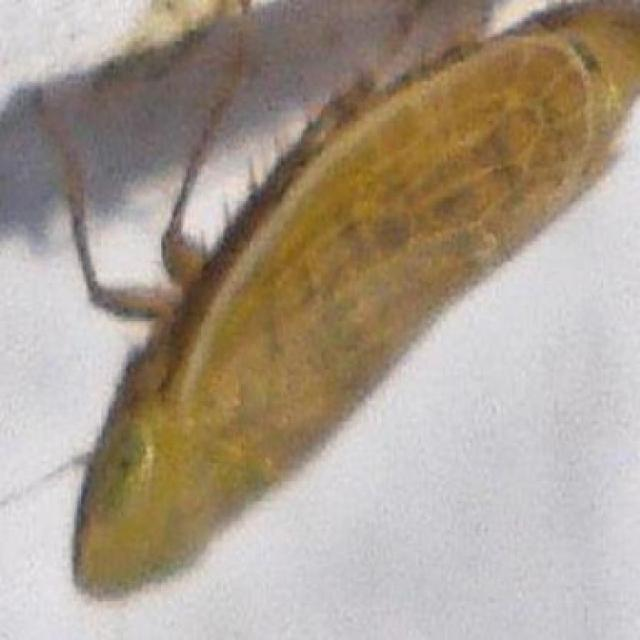green-leafhopper: (30, 0, 637, 599)
